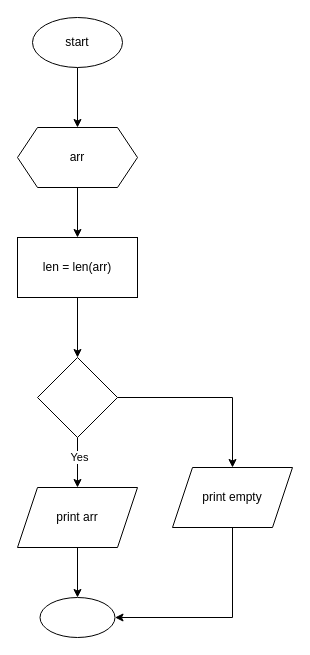
The diagram is 310 pixels wide and 655 high, and some of its shapes have lost their labels. Here are the shapes that lost their labels. From the top down, the box of each, then its label:
(36, 356, 118, 438): len > 0 ?
(39, 596, 115, 638): end
